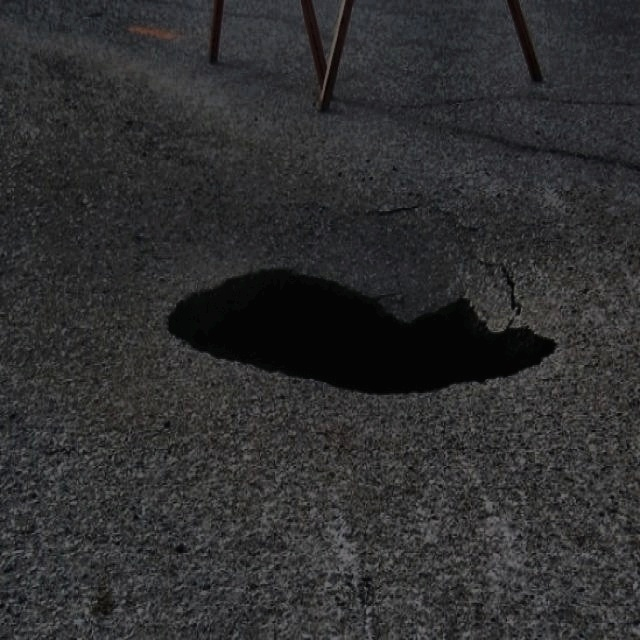Pothole: (161, 262, 561, 400)
